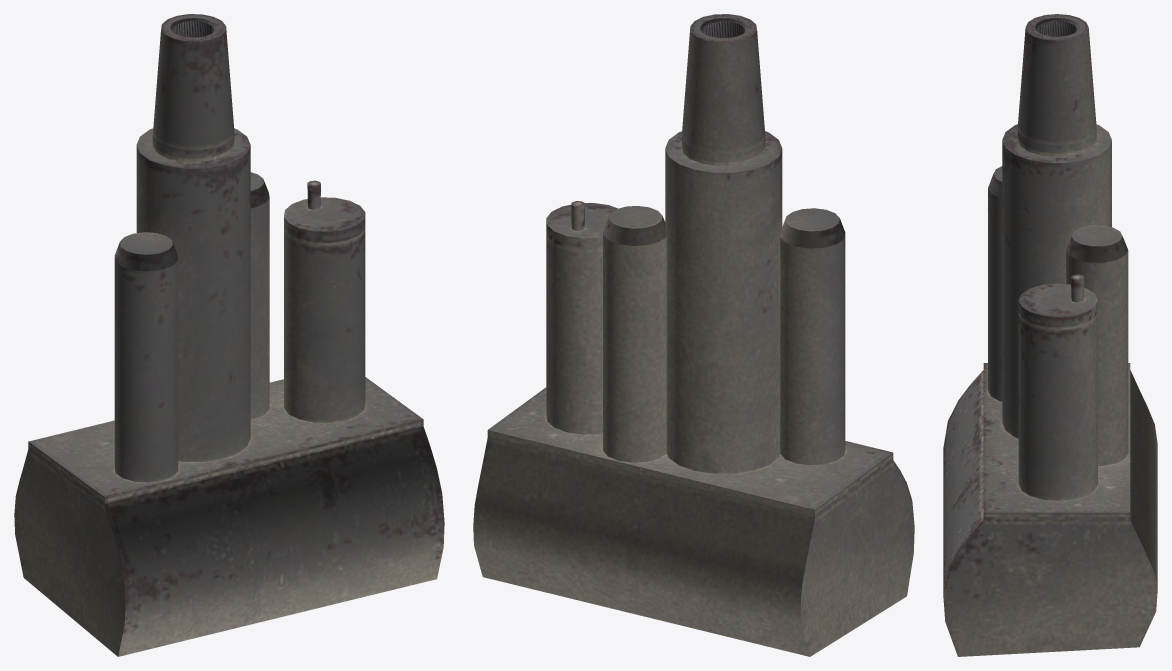
Rendered from Gun_01.glb.
3 renders of one model, left to right at view 1: azimuth 30°, elevation 25°; view 2: azimuth 150°, elevation 25°; view 3: azimuth 270°, elevation 25°, orthographic. The views are drawn at different scales.
Parts seen in each view (by area): view 1: set_0_group_0; view 2: set_0_group_0; view 3: set_0_group_0.
Part boxes in pixels (x1,y1,x2,y2): set_0_group_0: [14, 14, 444, 656]; set_0_group_0: [473, 14, 914, 656]; set_0_group_0: [943, 14, 1157, 656].
Size of the model in its own units: 0.6646 by 1.12 by 0.4013.
1 material, 1 textured.
